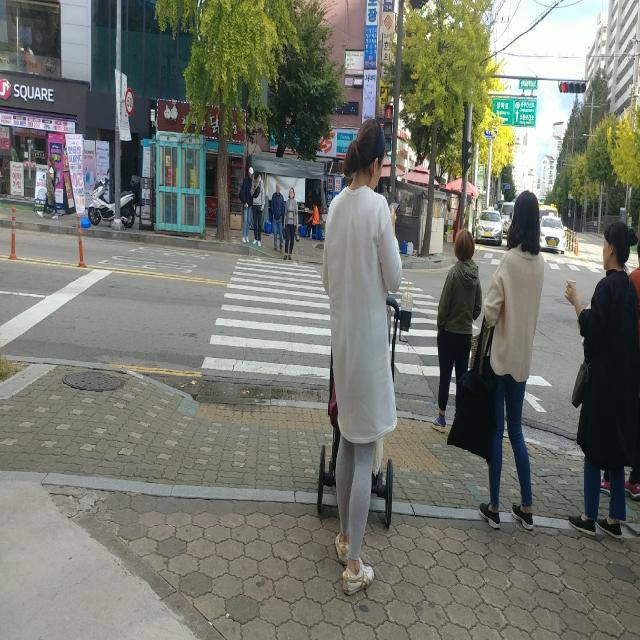빨간불: (382, 102, 394, 152)
횡단보도: (207, 255, 566, 441)
